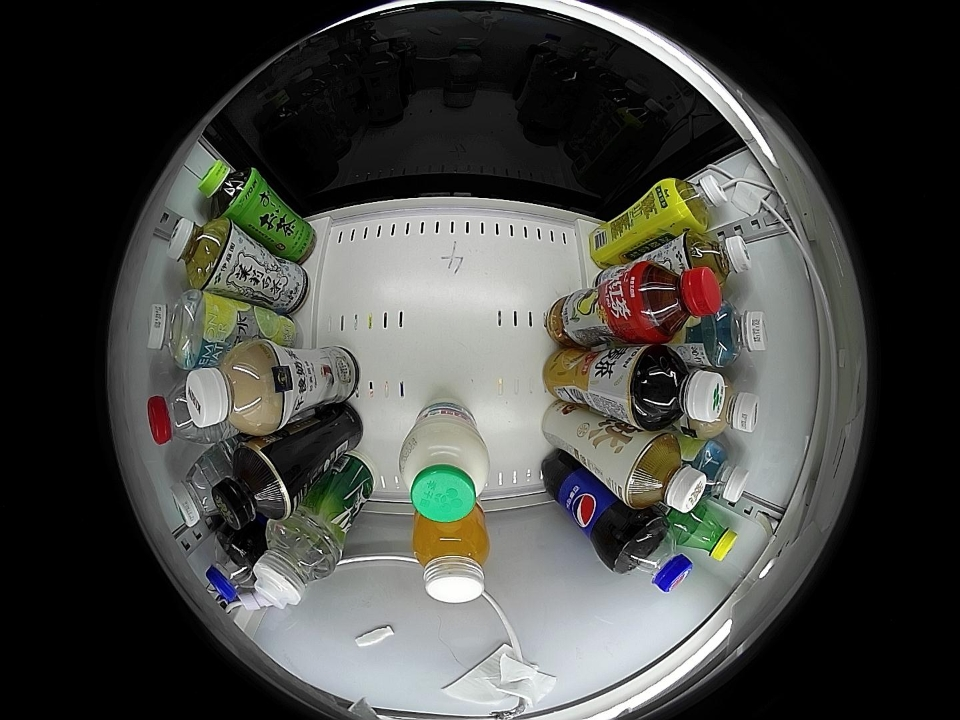baicha: (167, 218, 232, 288), (682, 231, 752, 290)
baishikele-2: (612, 518, 692, 593), (205, 532, 262, 601)
binghongcha: (630, 260, 723, 343)
bingtangxueli: (659, 170, 728, 234)
damaicha: (630, 345, 726, 430)
jianjiao: (252, 518, 338, 609)
liziyuan: (400, 417, 489, 523)
nongfushanquan: (147, 380, 212, 446)
qinningshui: (148, 290, 212, 369), (699, 301, 768, 367), (690, 440, 750, 505)
rancha-1: (212, 443, 293, 530)
rancha-2: (623, 432, 708, 515)
weic: (412, 511, 490, 604)
wuhounaicha: (185, 342, 283, 436), (692, 373, 761, 437)
xuebi-b: (676, 504, 738, 563)
yibao: (169, 453, 227, 527)
yitengyuan: (197, 160, 260, 220)
